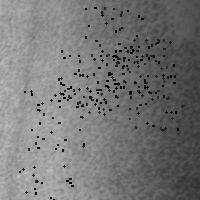pitted_surface: (82, 2, 197, 199), (24, 89, 83, 149), (78, 54, 137, 113), (110, 40, 170, 98), (58, 50, 118, 107), (113, 39, 173, 96), (85, 7, 141, 65), (129, 75, 182, 129), (19, 165, 71, 200)
